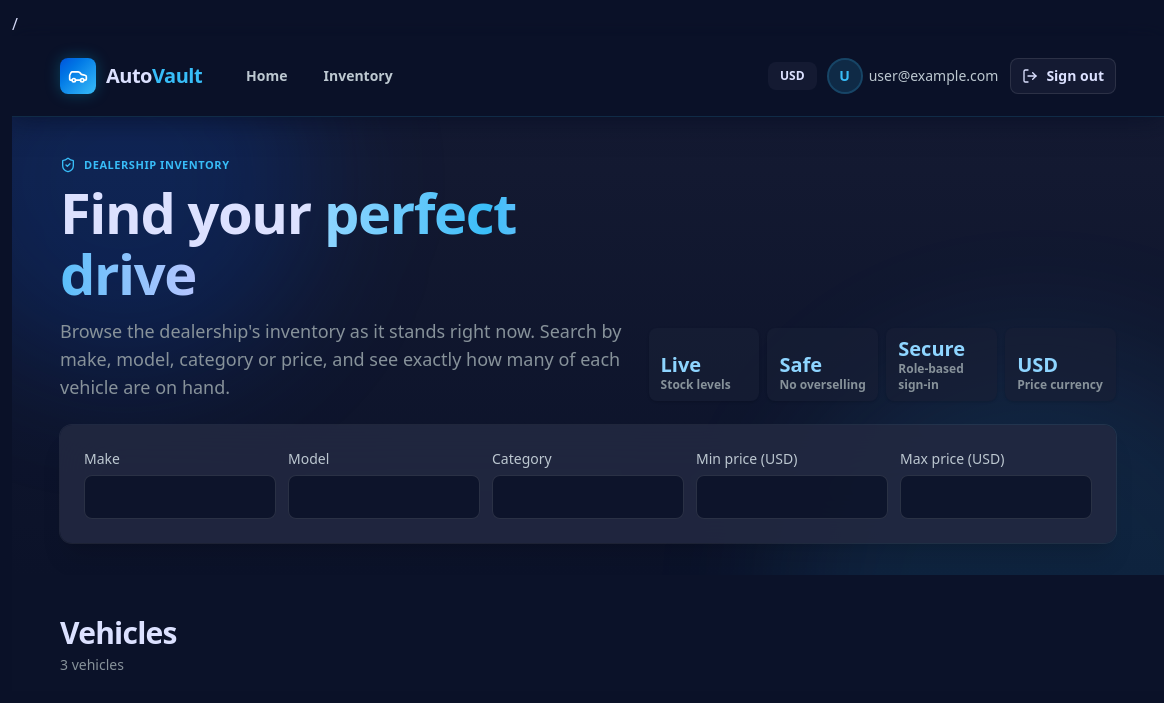
Test: searching the vehicles › clearing the search › offers to clear only while something is filtered, and shows everything again
The width and height of the screenshot is (1164, 703).
Expected: the button "Clear filters" is not shown
Type "toy" into the field labelled "Make" at (180, 497), box [84,475,276,519]
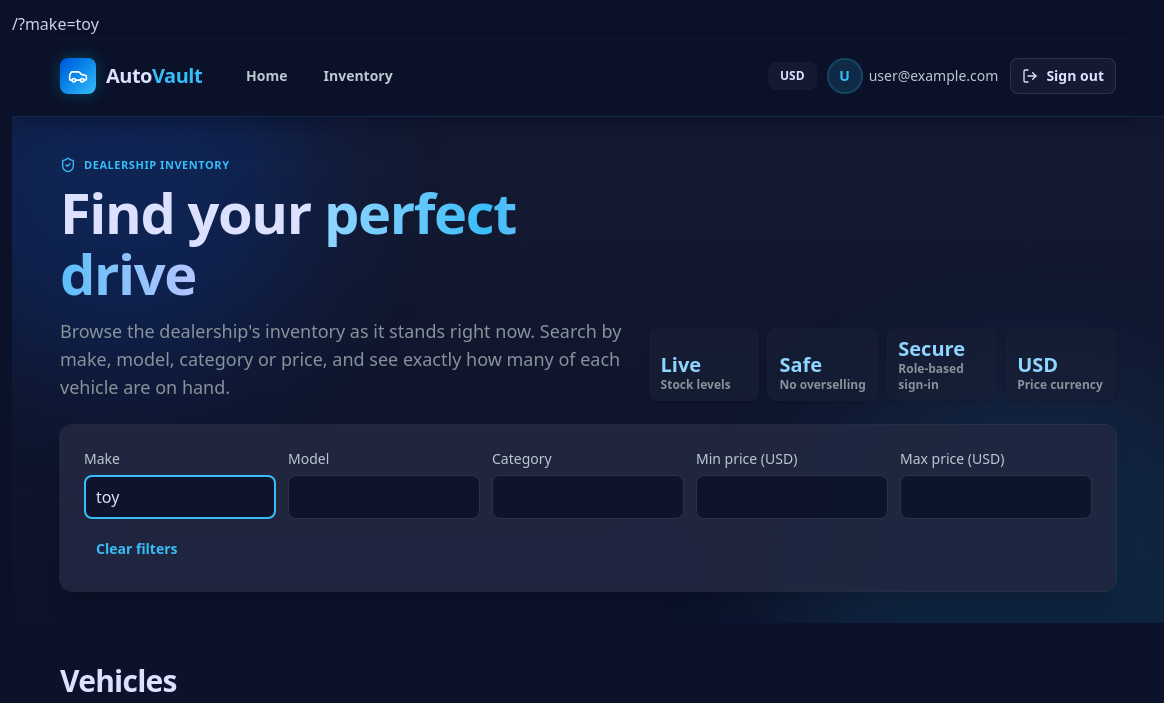
Click the button "Clear filters" at (137, 549), box [84,531,190,567]
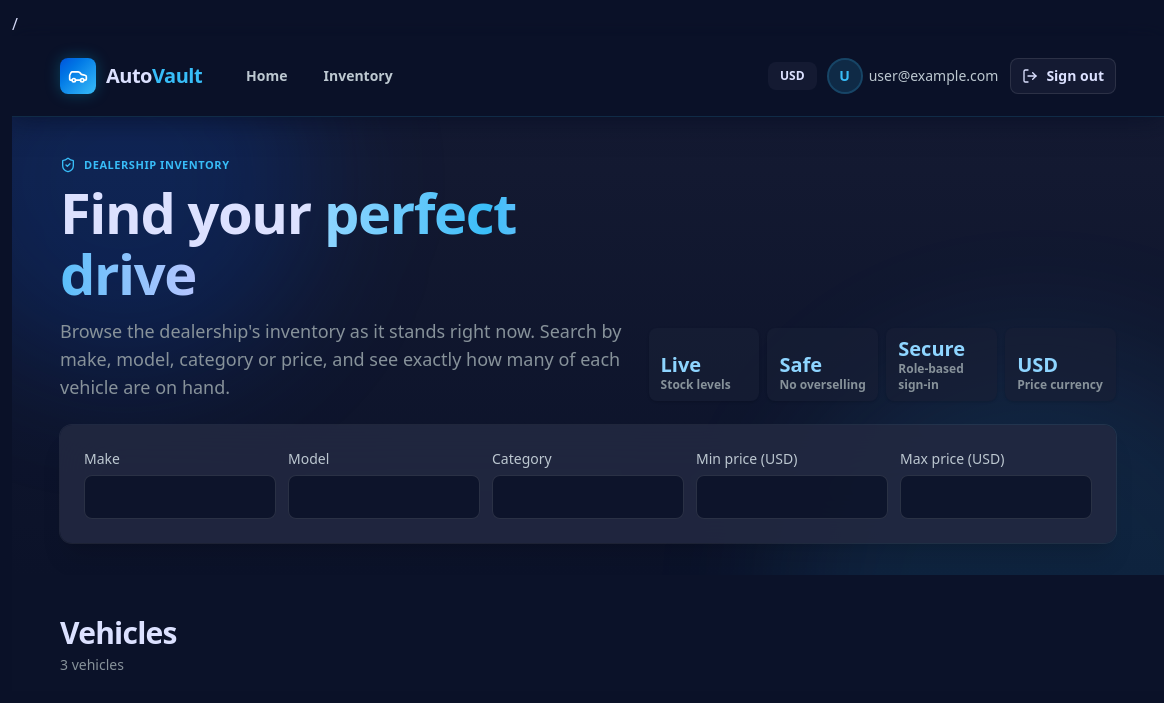
Result: the field labelled "Make" is empty at [84,475,276,519]
Result: the button "Clear filters" is gone
